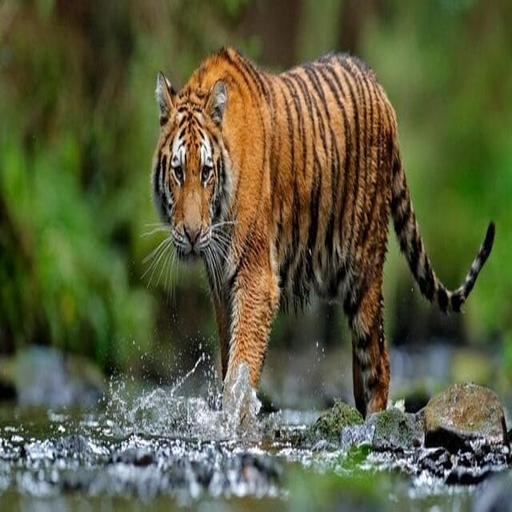Tiger: (136, 41, 510, 473)
